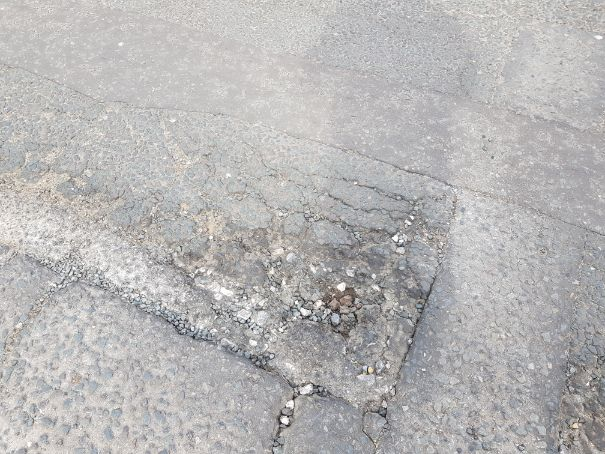pothole: (5, 156, 299, 378), (206, 179, 430, 408)
